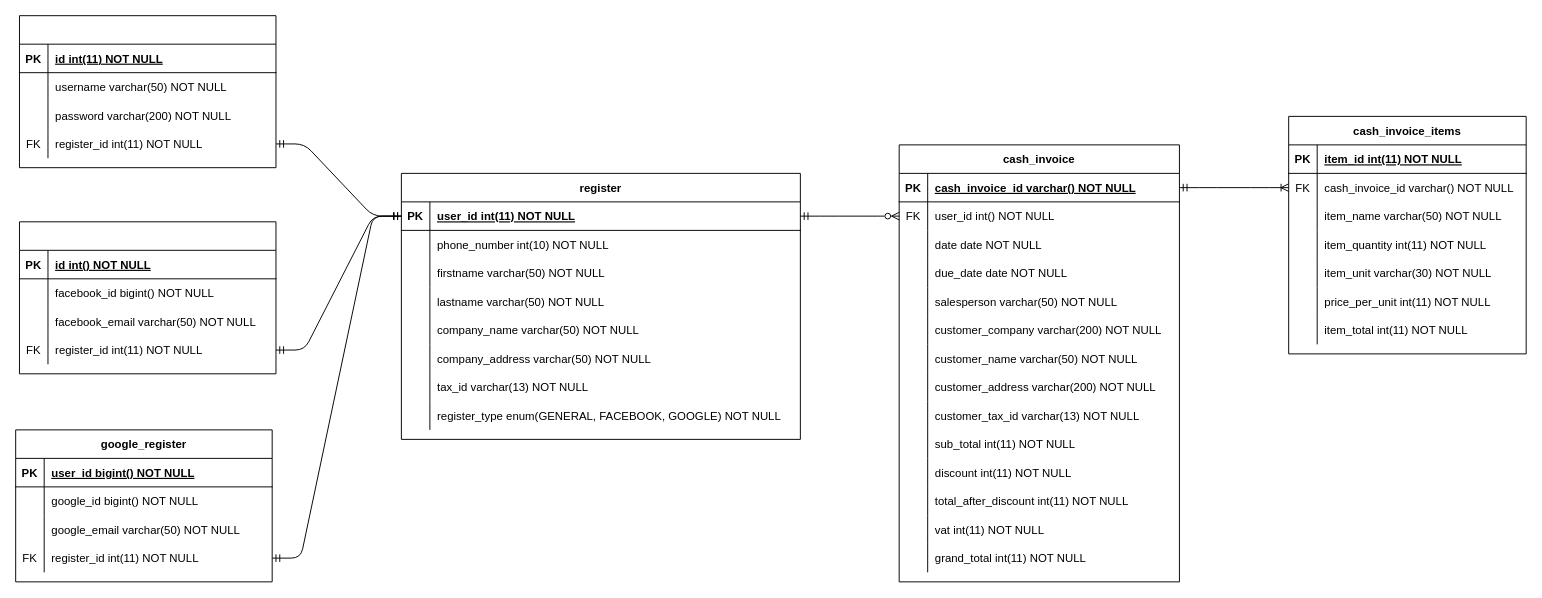
This 1542x598 diagram has some shape labels left out. Here are the shapes that lost their labels. From the top down, the box of each, then its label:
(19, 15, 276, 168): general_register
(19, 221, 276, 374): facebook_register
